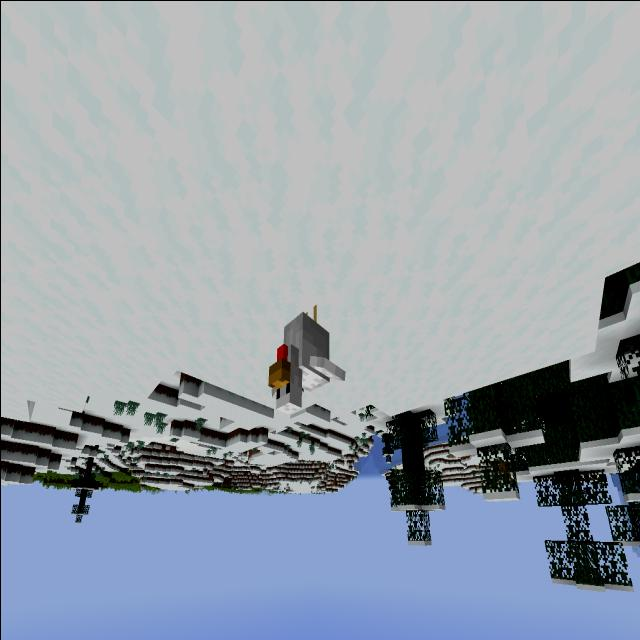chicken: (264, 288, 348, 428)
